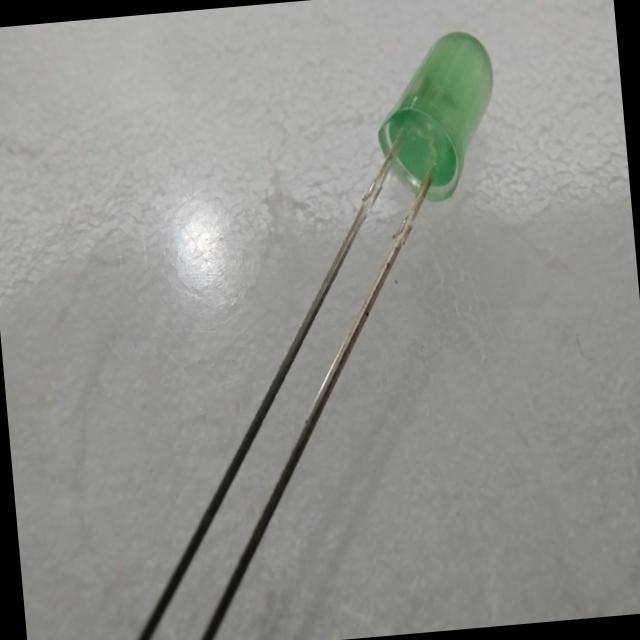green_led: (365, 18, 516, 224)
